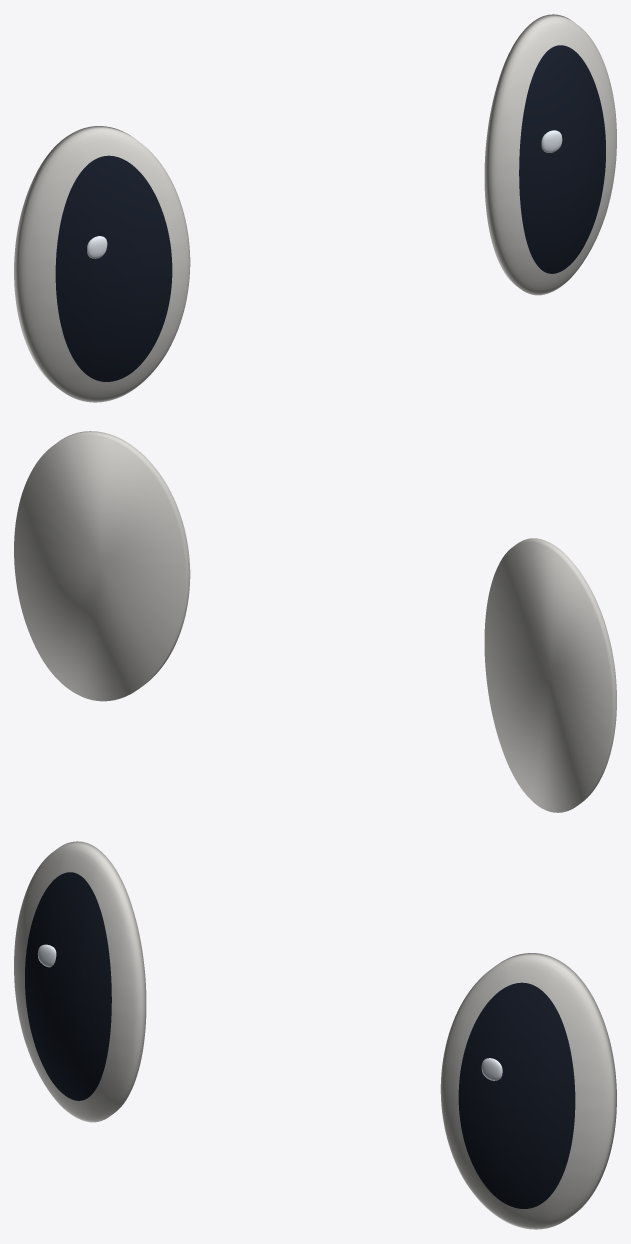
The model's file is Feminine-eyes-original_white.glb.
3 views of the same model, one above another, from view 1: azimuth 30°, elevation 25°; view 2: azimuth 150°, elevation 25°; view 3: azimuth 330°, elevation 25° (orthographic).
Visible parts, largest first — view 1: Eye / pupil -1, Eye / original -1, Eye / pupil 1, Eye / original 1; view 2: Eye / original 1, Eye / original -1; view 3: Eye / pupil 1, Eye / original 1, Eye / pupil -1, Eye / original -1.
Boxes of the visible parts, box(x1,y1,x2,y2) form: Eye / pupil -1: box(55, 155, 172, 381); Eye / original -1: box(14, 126, 190, 402); Eye / pupil 1: box(519, 45, 605, 273); Eye / original 1: box(484, 14, 616, 295); Eye / original 1: box(14, 431, 190, 701); Eye / original -1: box(484, 538, 616, 812); Eye / pupil 1: box(458, 982, 575, 1208); Eye / original 1: box(440, 953, 616, 1229); Eye / pupil -1: box(25, 872, 111, 1100); Eye / original -1: box(14, 841, 146, 1122).
Bounding box in the file's own units: 0.4 × 0.172 × 0.0405.
